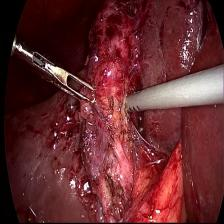Grasper: (34, 45, 99, 113)
Irrigator: (122, 84, 157, 118)
